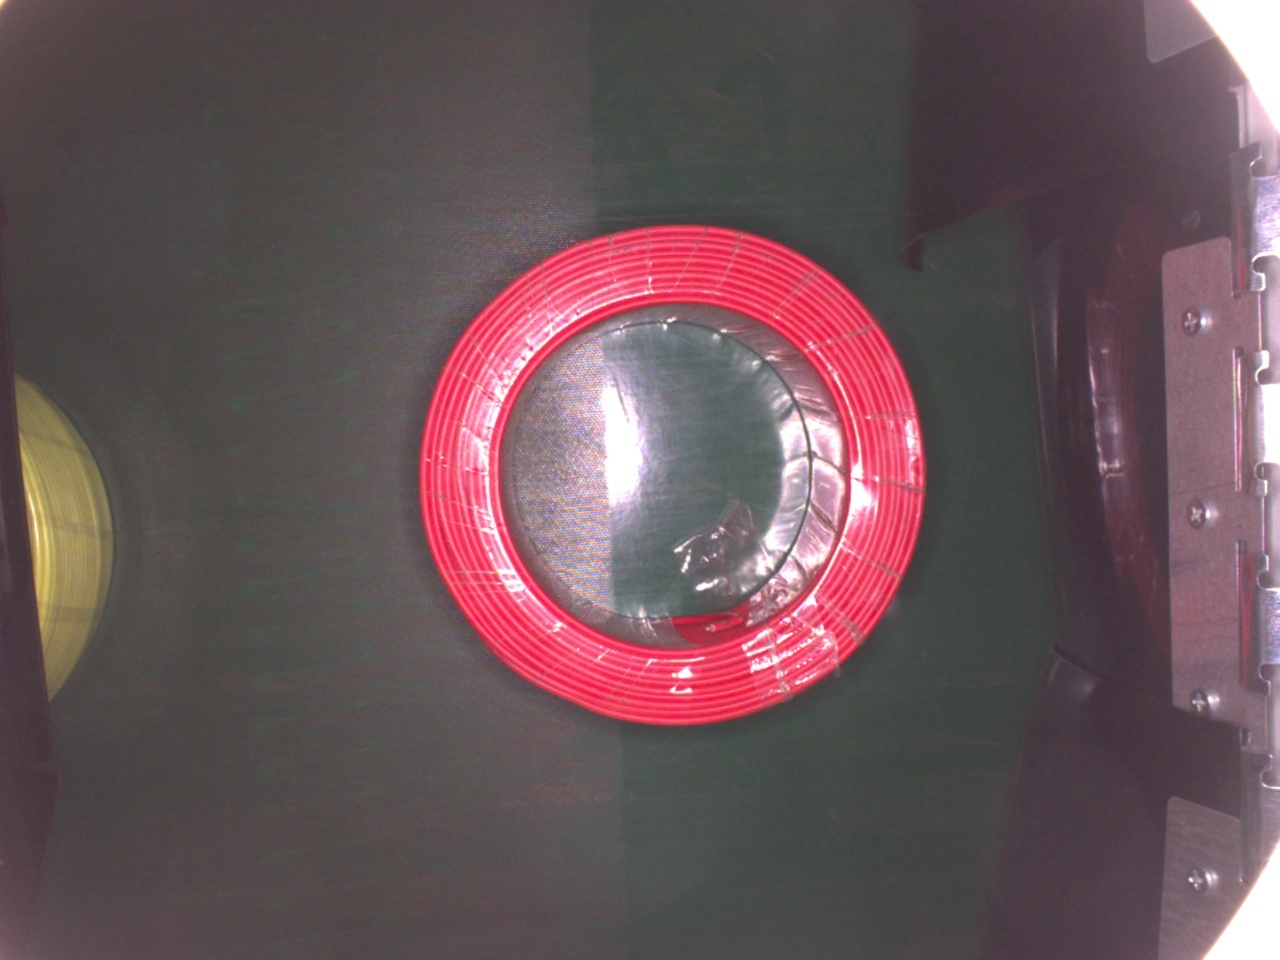red: (419, 221, 929, 733)
